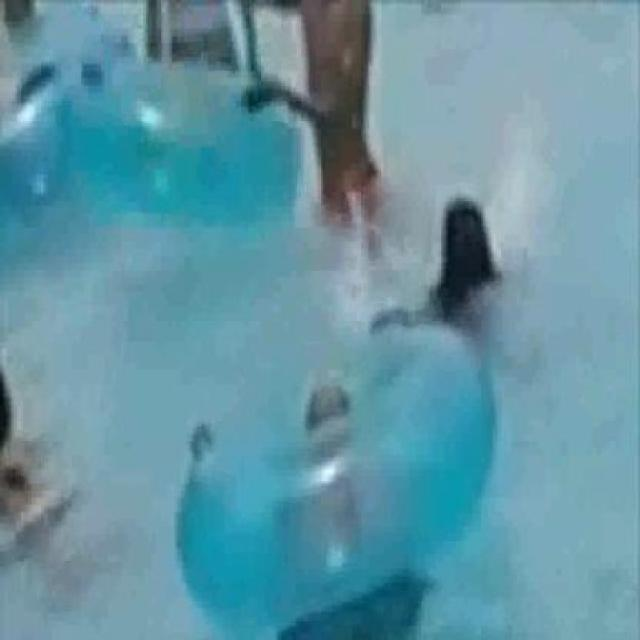drowning: (0, 342, 62, 546), (421, 199, 517, 310)
